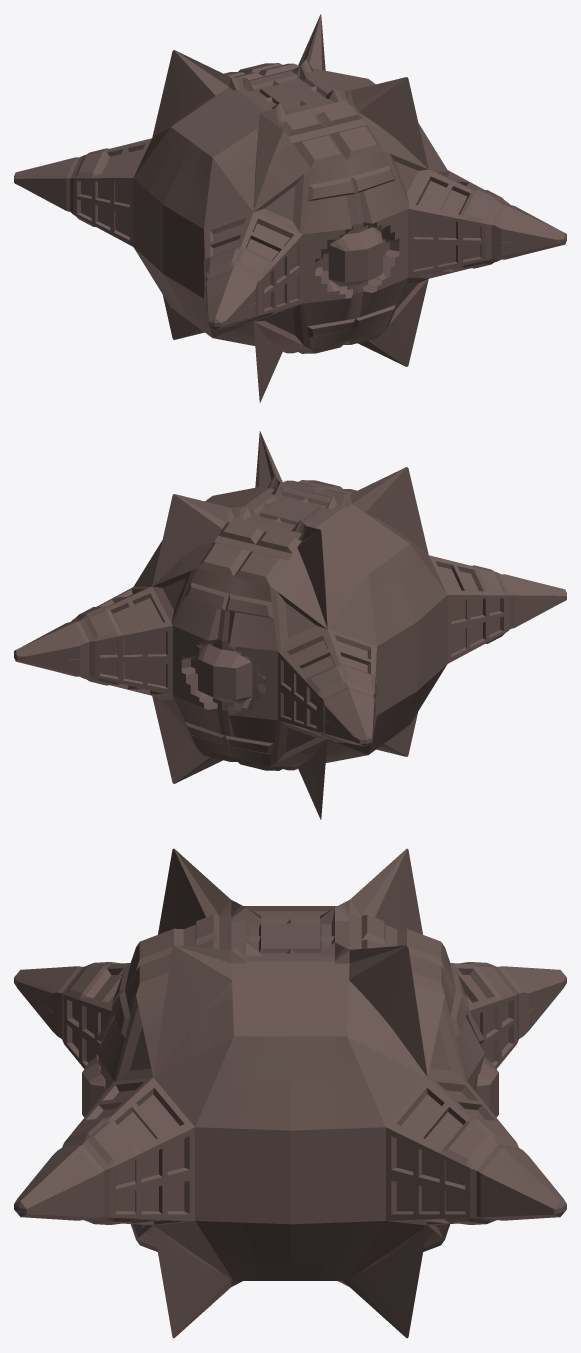
Rendered from dron3.fbx.
3 renders of one model, top to bottom at view 1: azimuth 30°, elevation 25°; view 2: azimuth 150°, elevation 25°; view 3: azimuth 270°, elevation 25°, orthographic. The views are drawn at different scales.
Visible parts, largest first — view 1: Cube; view 2: Cube; view 3: Cube.
Part boxes in pixels (bbox=[...]): Cube: bbox=[14, 14, 566, 402]; Cube: bbox=[14, 431, 566, 819]; Cube: bbox=[14, 848, 566, 1338].
Bounding box in the file's own units: 3.87 × 3.92 × 3.04.
